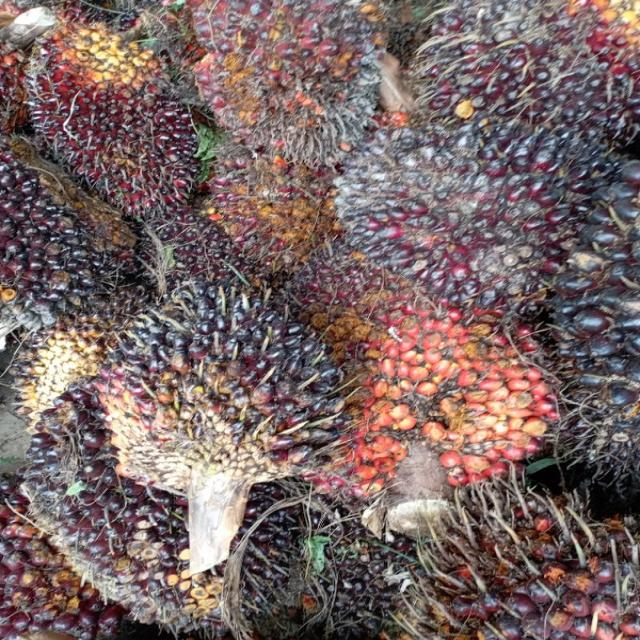fraksi 00: (47, 259, 381, 519), (303, 109, 610, 352)
fraksi 1: (15, 0, 239, 265), (165, 0, 438, 202)
fraksi 3: (253, 219, 603, 534)
